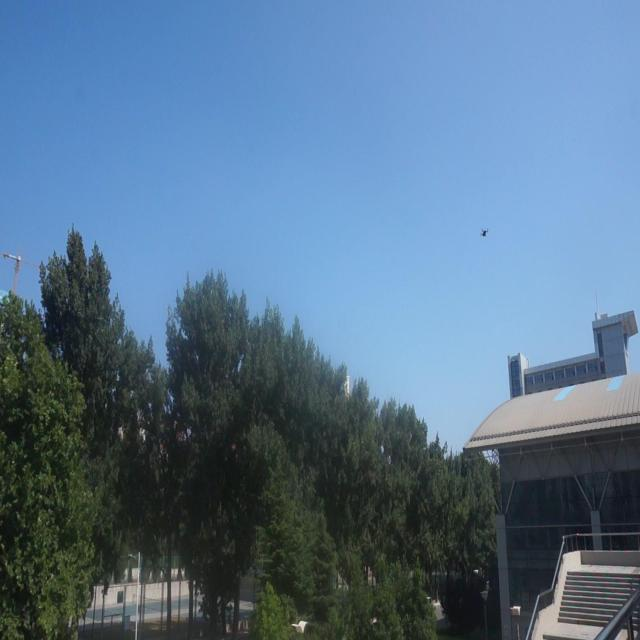drone: (478, 226, 491, 242)
